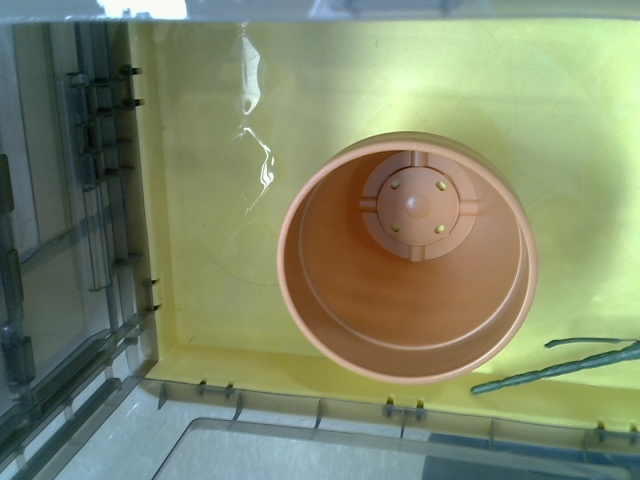화분: (275, 131, 541, 385)
